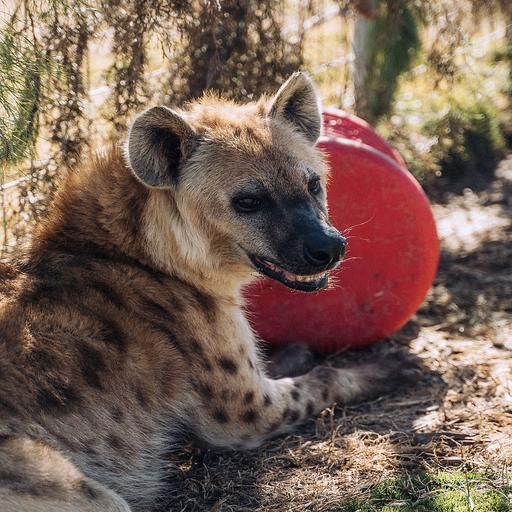Hyena: (0, 71, 406, 512)
